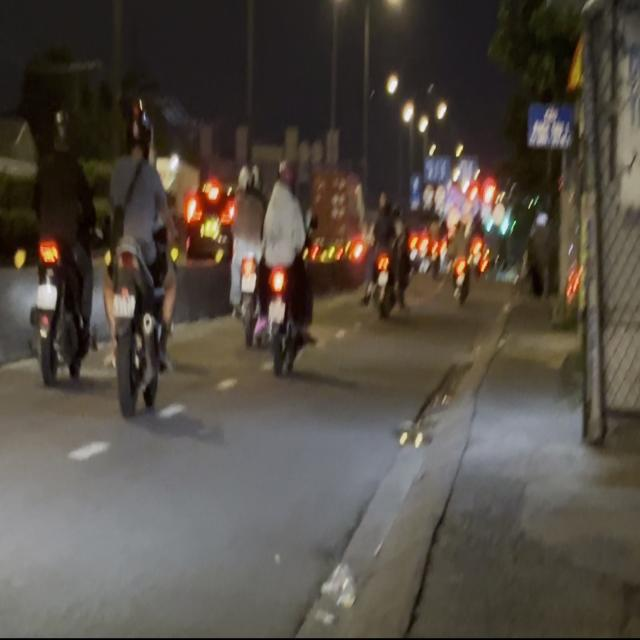helmet: (50, 109, 74, 156), (128, 112, 151, 158)
licenseplate: (100, 107, 178, 415), (25, 104, 95, 388)
nohelmet: (113, 293, 135, 320), (37, 285, 57, 311)
